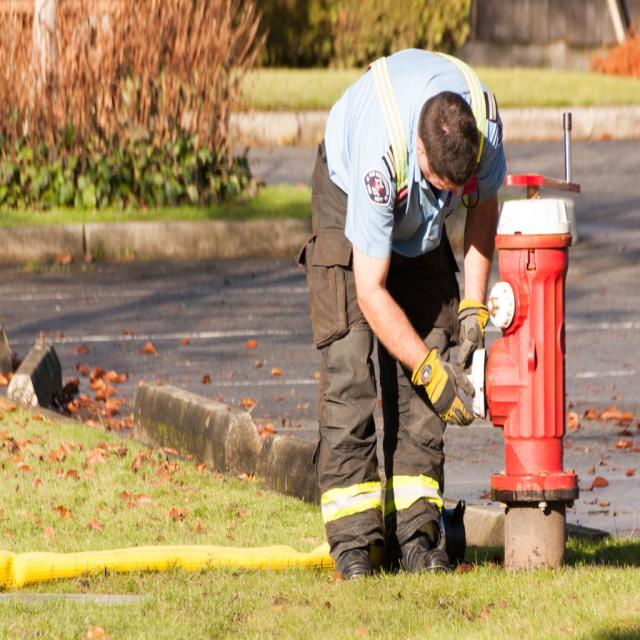fire_hydrant: (462, 111, 580, 568), (465, 171, 580, 572)
